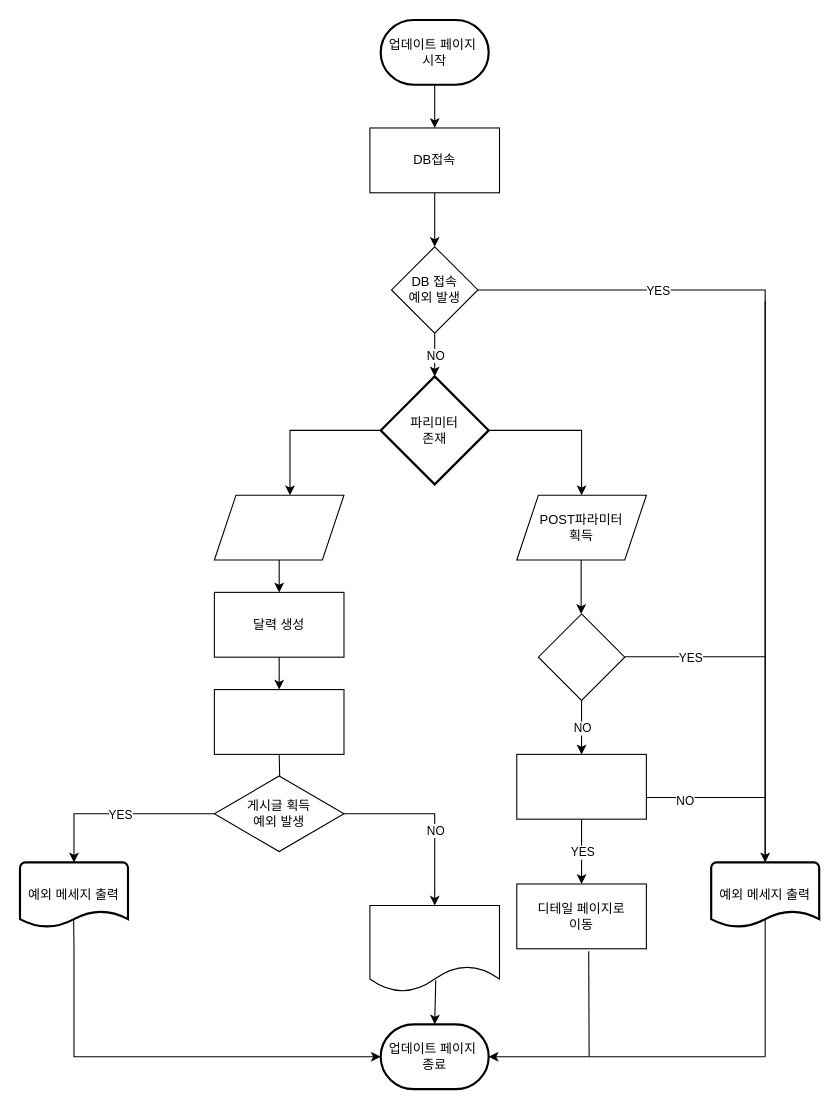
Image size: 838x1108. Some labels were removed from this diagram. Here are the shapes that lost their labels. From the top down, the box of each, then its label:
(213, 494, 344, 560): GET 파라미터 획득
(537, 613, 625, 700): 파라미터 에러발생
(213, 688, 344, 754): DB에서 게시글 조회
(516, 753, 646, 819): 게시글 작성 처리
(369, 905, 500, 992): 화면에 출력
